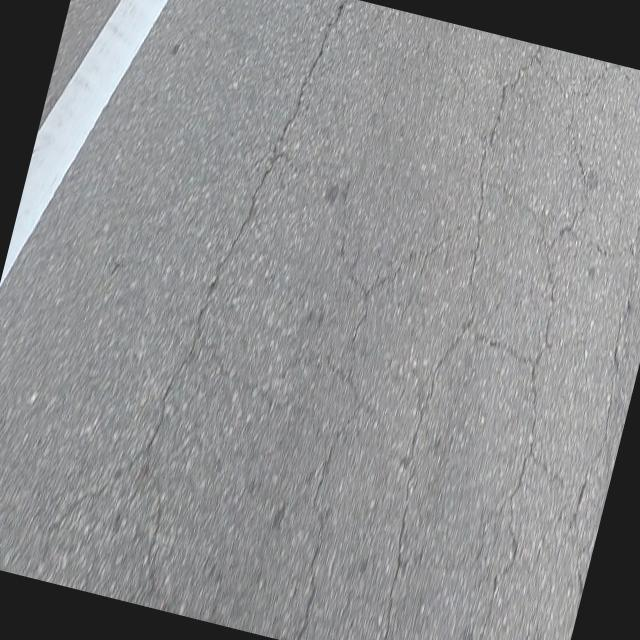Retak-Buaya: (290, 47, 640, 640)
Retak-Memanjang: (41, 0, 348, 541)
